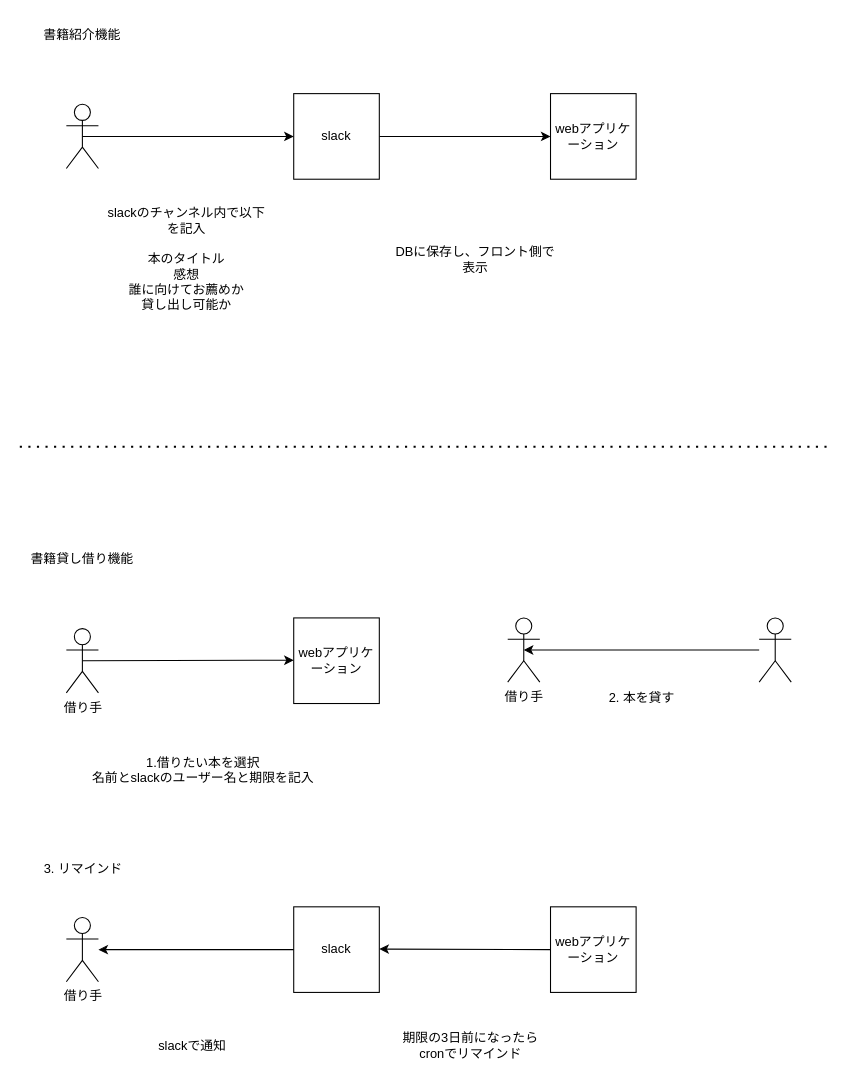
Some shapes in this 853 by 1085 pixel diagram are drawn without their labels. The centre of each missing label's shape, as x and y in pixels:
"user" goes at point (81, 136).
"貸し手" goes at point (774, 649).
